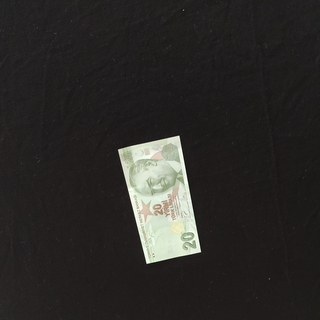20TLFront: (118, 135, 201, 264)
